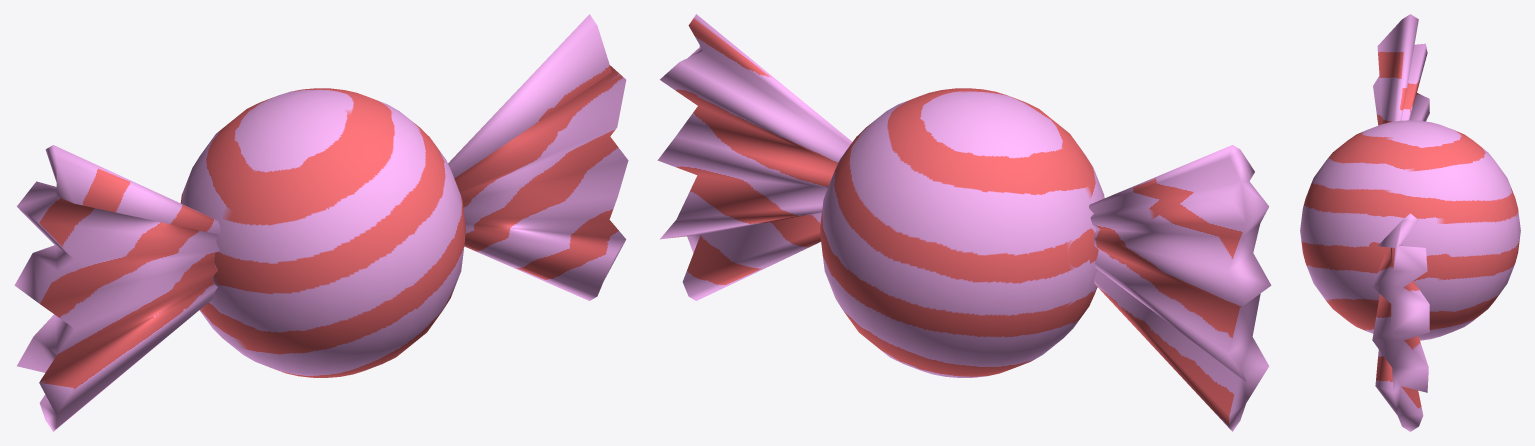
Rendered from candy.fbx.
3 views of the same model, side by side, from view 1: azimuth 30°, elevation 25°; view 2: azimuth 150°, elevation 25°; view 3: azimuth 270°, elevation 25° (orthographic). The views are drawn at different scales.
Parts seen in each view (by area): view 1: Cone; view 2: Cone; view 3: Cone.
Part boxes in pixels (x1,y1,x2,y2): Cone: (14, 14, 628, 431); Cone: (657, 14, 1271, 431); Cone: (1300, 14, 1520, 431).
Size of the model in its own units: 24.45 by 11.4 by 10.43.
Materials: 1 (1 with a texture image).
